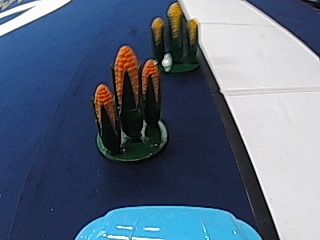corn: (92, 39, 170, 163), (149, 5, 204, 74)
